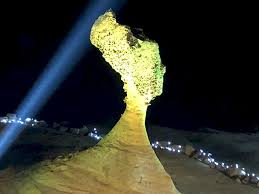yehliu: (83, 7, 179, 105)
